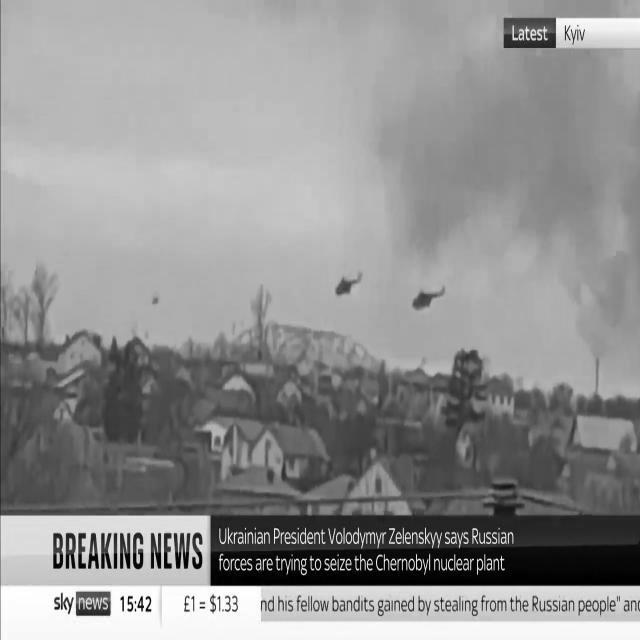helikopter: (328, 242, 374, 322), (406, 266, 462, 330)
